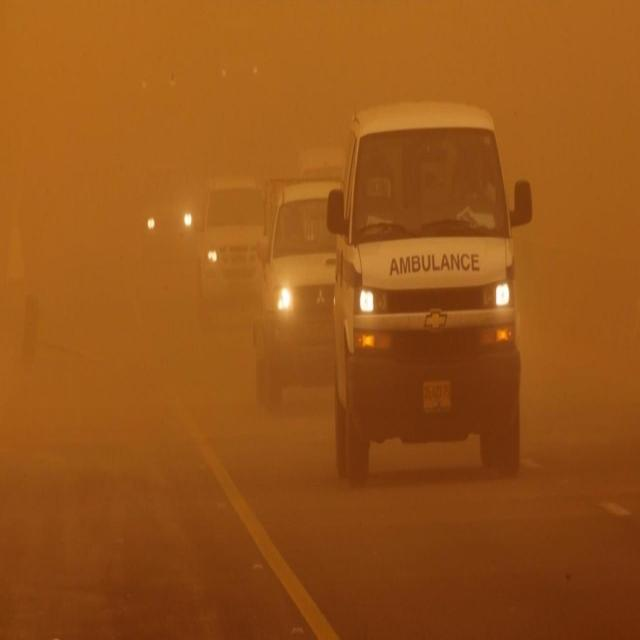Car: (330, 94, 536, 492), (250, 180, 338, 393), (200, 170, 264, 330), (136, 132, 191, 257)
